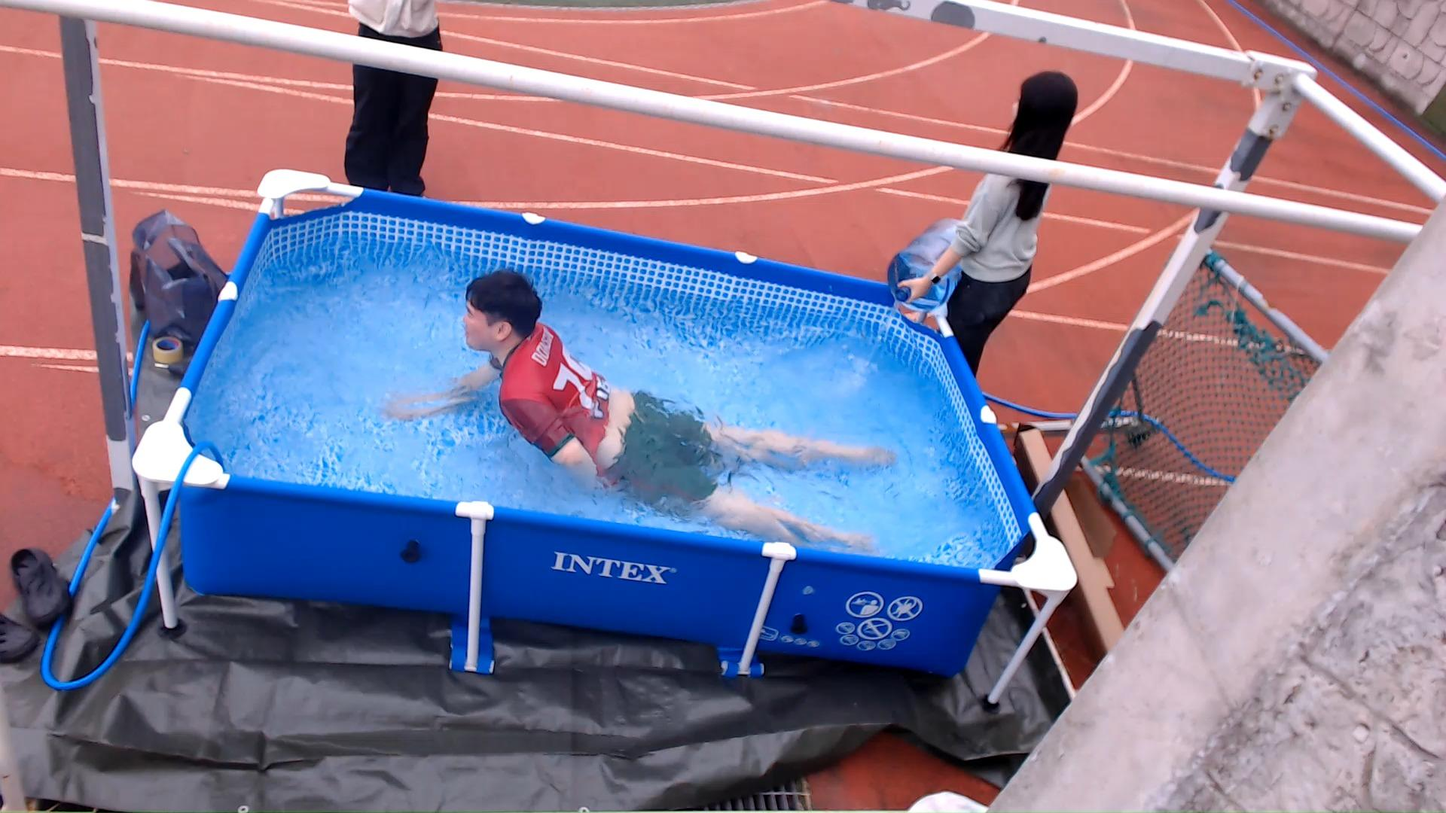Swimming: (359, 240, 914, 540)
